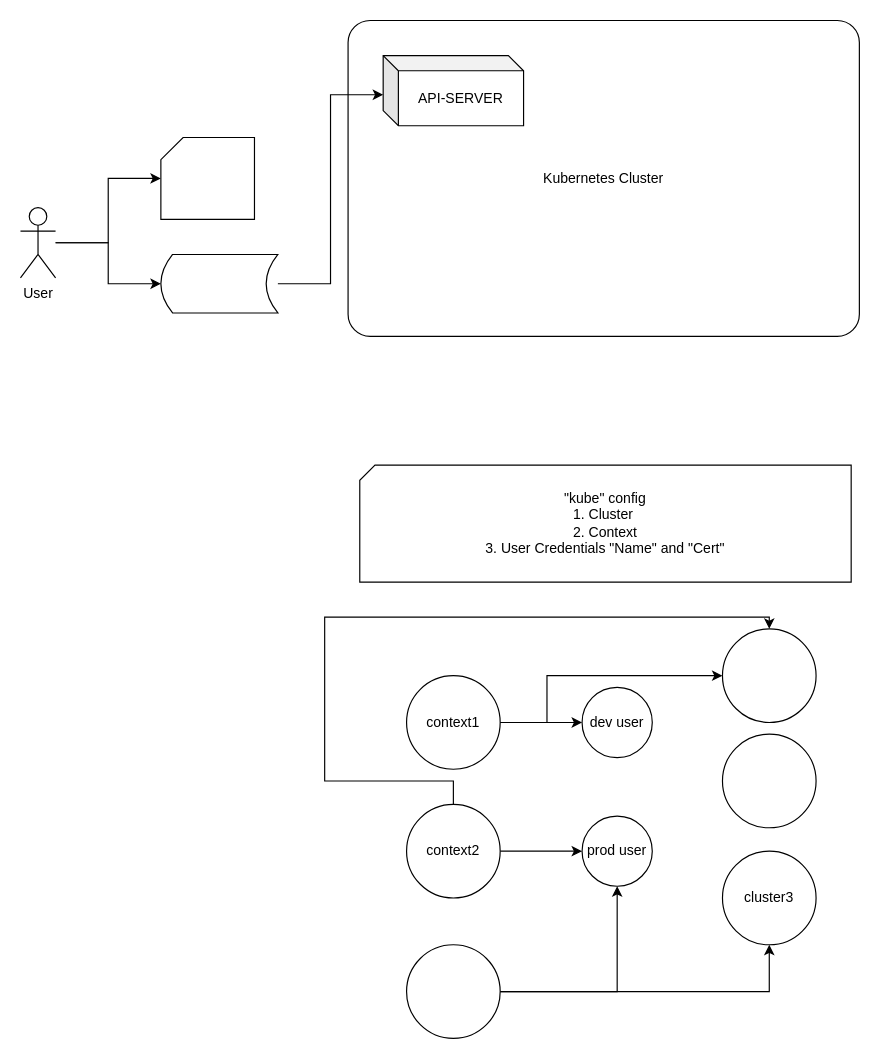
This 880x1059 diagram has some shape labels left out. The shapes that lost their labels are listed below. From the top down, each one's box as (x1, y1, x2, y2) in pixels, then its label:
(160, 136, 254, 219): "kube" config
(160, 253, 278, 313): kubectl
(721, 628, 816, 722): cluster1
(721, 733, 816, 828): cluster2
(405, 944, 500, 1038): context3
